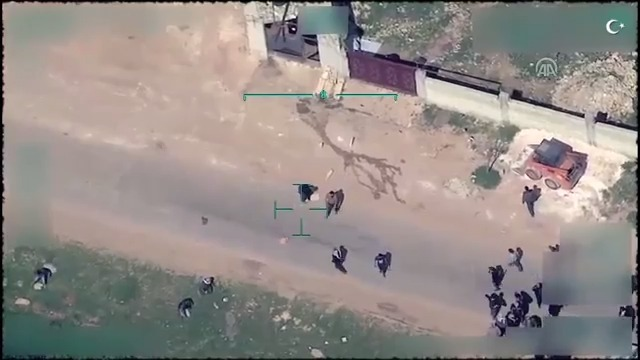insan: (324, 244, 346, 279), (519, 181, 539, 217), (502, 247, 524, 273), (320, 188, 337, 220), (374, 252, 388, 278)
